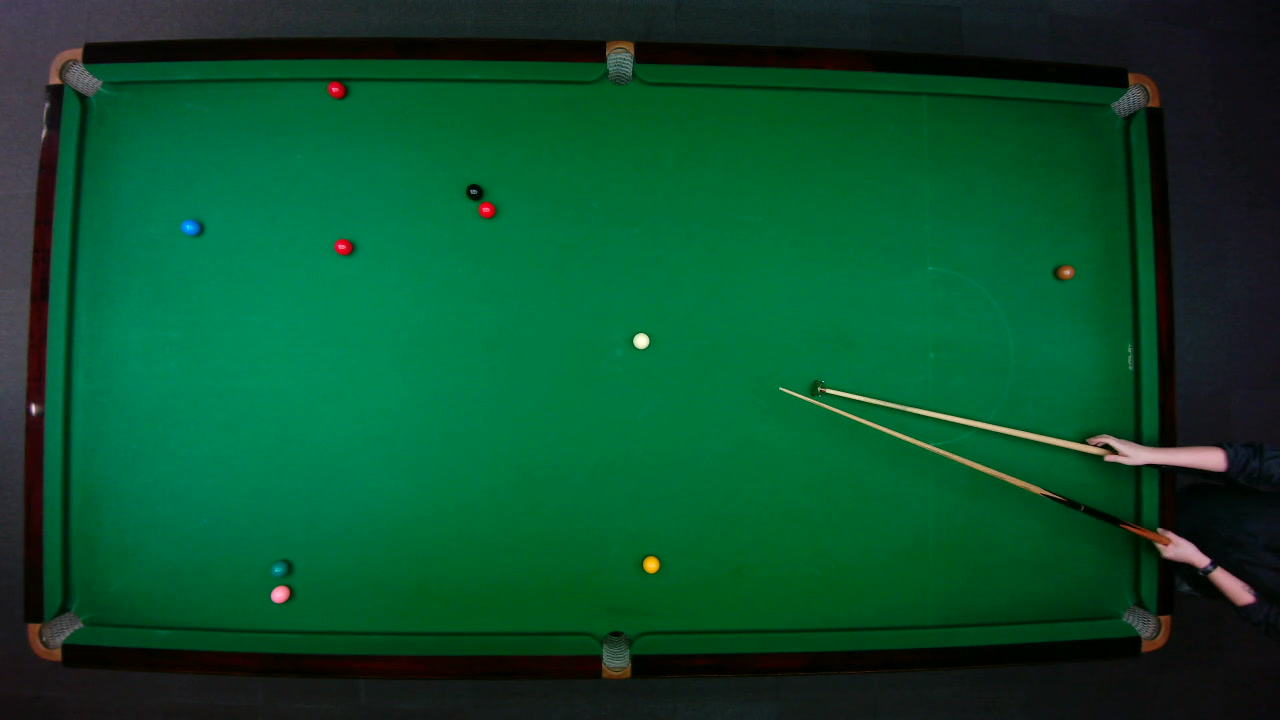bag: (26, 609, 84, 661), (46, 46, 102, 97), (1119, 603, 1171, 652), (1108, 71, 1160, 118), (601, 629, 630, 679), (605, 39, 633, 85)
black: (464, 183, 483, 200)
blue: (179, 217, 201, 235)
brown: (1054, 263, 1076, 280)
cue: (775, 382, 1191, 562)
green: (269, 558, 290, 576)
pink: (269, 583, 290, 604)
red: (476, 200, 496, 219), (326, 79, 346, 98), (332, 237, 353, 255)
white: (631, 331, 650, 349)
yellow: (640, 554, 660, 574)
zone: (926, 266, 1013, 422)
